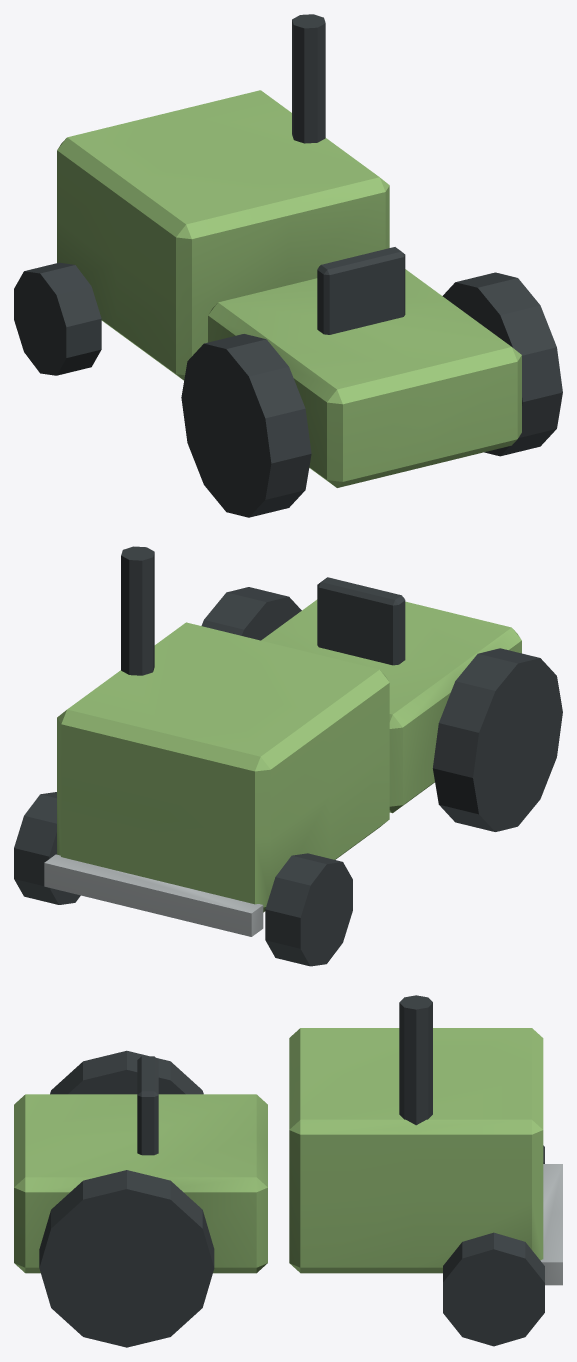
File: sm_vehicle_tractor.glb
3 renders of one model, top to bottom at view 1: azimuth 30°, elevation 25°; view 2: azimuth 150°, elevation 25°; view 3: azimuth 270°, elevation 25°, orthographic. The views are drawn at different scales.
Parts seen in each view (by area): view 1: Engine, Rear, RearWheel, RearWheel.001, FrontWheel, SeatBack, Exhaust; view 2: Engine, RearWheel, Rear, FrontWheel, Bumper, SeatBack, Exhaust, FrontWheel.001, RearWheel.001; view 3: Engine, Rear, RearWheel.001, FrontWheel.001, Exhaust, RearWheel, Bumper, SeatBack.
Part boxes in pixels (box(x1,y1,x2,y2)): Engine: box(57, 90, 389, 380); Rear: box(208, 269, 521, 487); RearWheel: box(181, 334, 311, 517); RearWheel.001: box(442, 272, 562, 456); FrontWheel: box(14, 262, 101, 375); SeatBack: box(317, 247, 405, 334); Exhaust: box(292, 14, 325, 143); Engine: box(57, 622, 389, 912); RearWheel: box(432, 648, 562, 831); Rear: box(261, 599, 521, 813); FrontWheel: box(265, 853, 352, 966); Bumper: box(44, 854, 263, 936); SeatBack: box(317, 577, 405, 665); Exhaust: box(121, 546, 154, 675); FrontWheel.001: box(14, 792, 80, 904); RearWheel.001: box(201, 587, 301, 640); Engine: box(289, 1028, 543, 1273); Rear: box(14, 1094, 267, 1273); RearWheel.001: box(39, 1170, 214, 1347); FrontWheel.001: box(443, 1232, 544, 1346); Exhaust: box(399, 995, 432, 1125); RearWheel: box(50, 1050, 203, 1094); Bumper: box(540, 1164, 562, 1285); SeatBack: box(137, 1056, 158, 1155).
Bounding box in the file's own units: 2.32 × 2.48 × 3.89.
